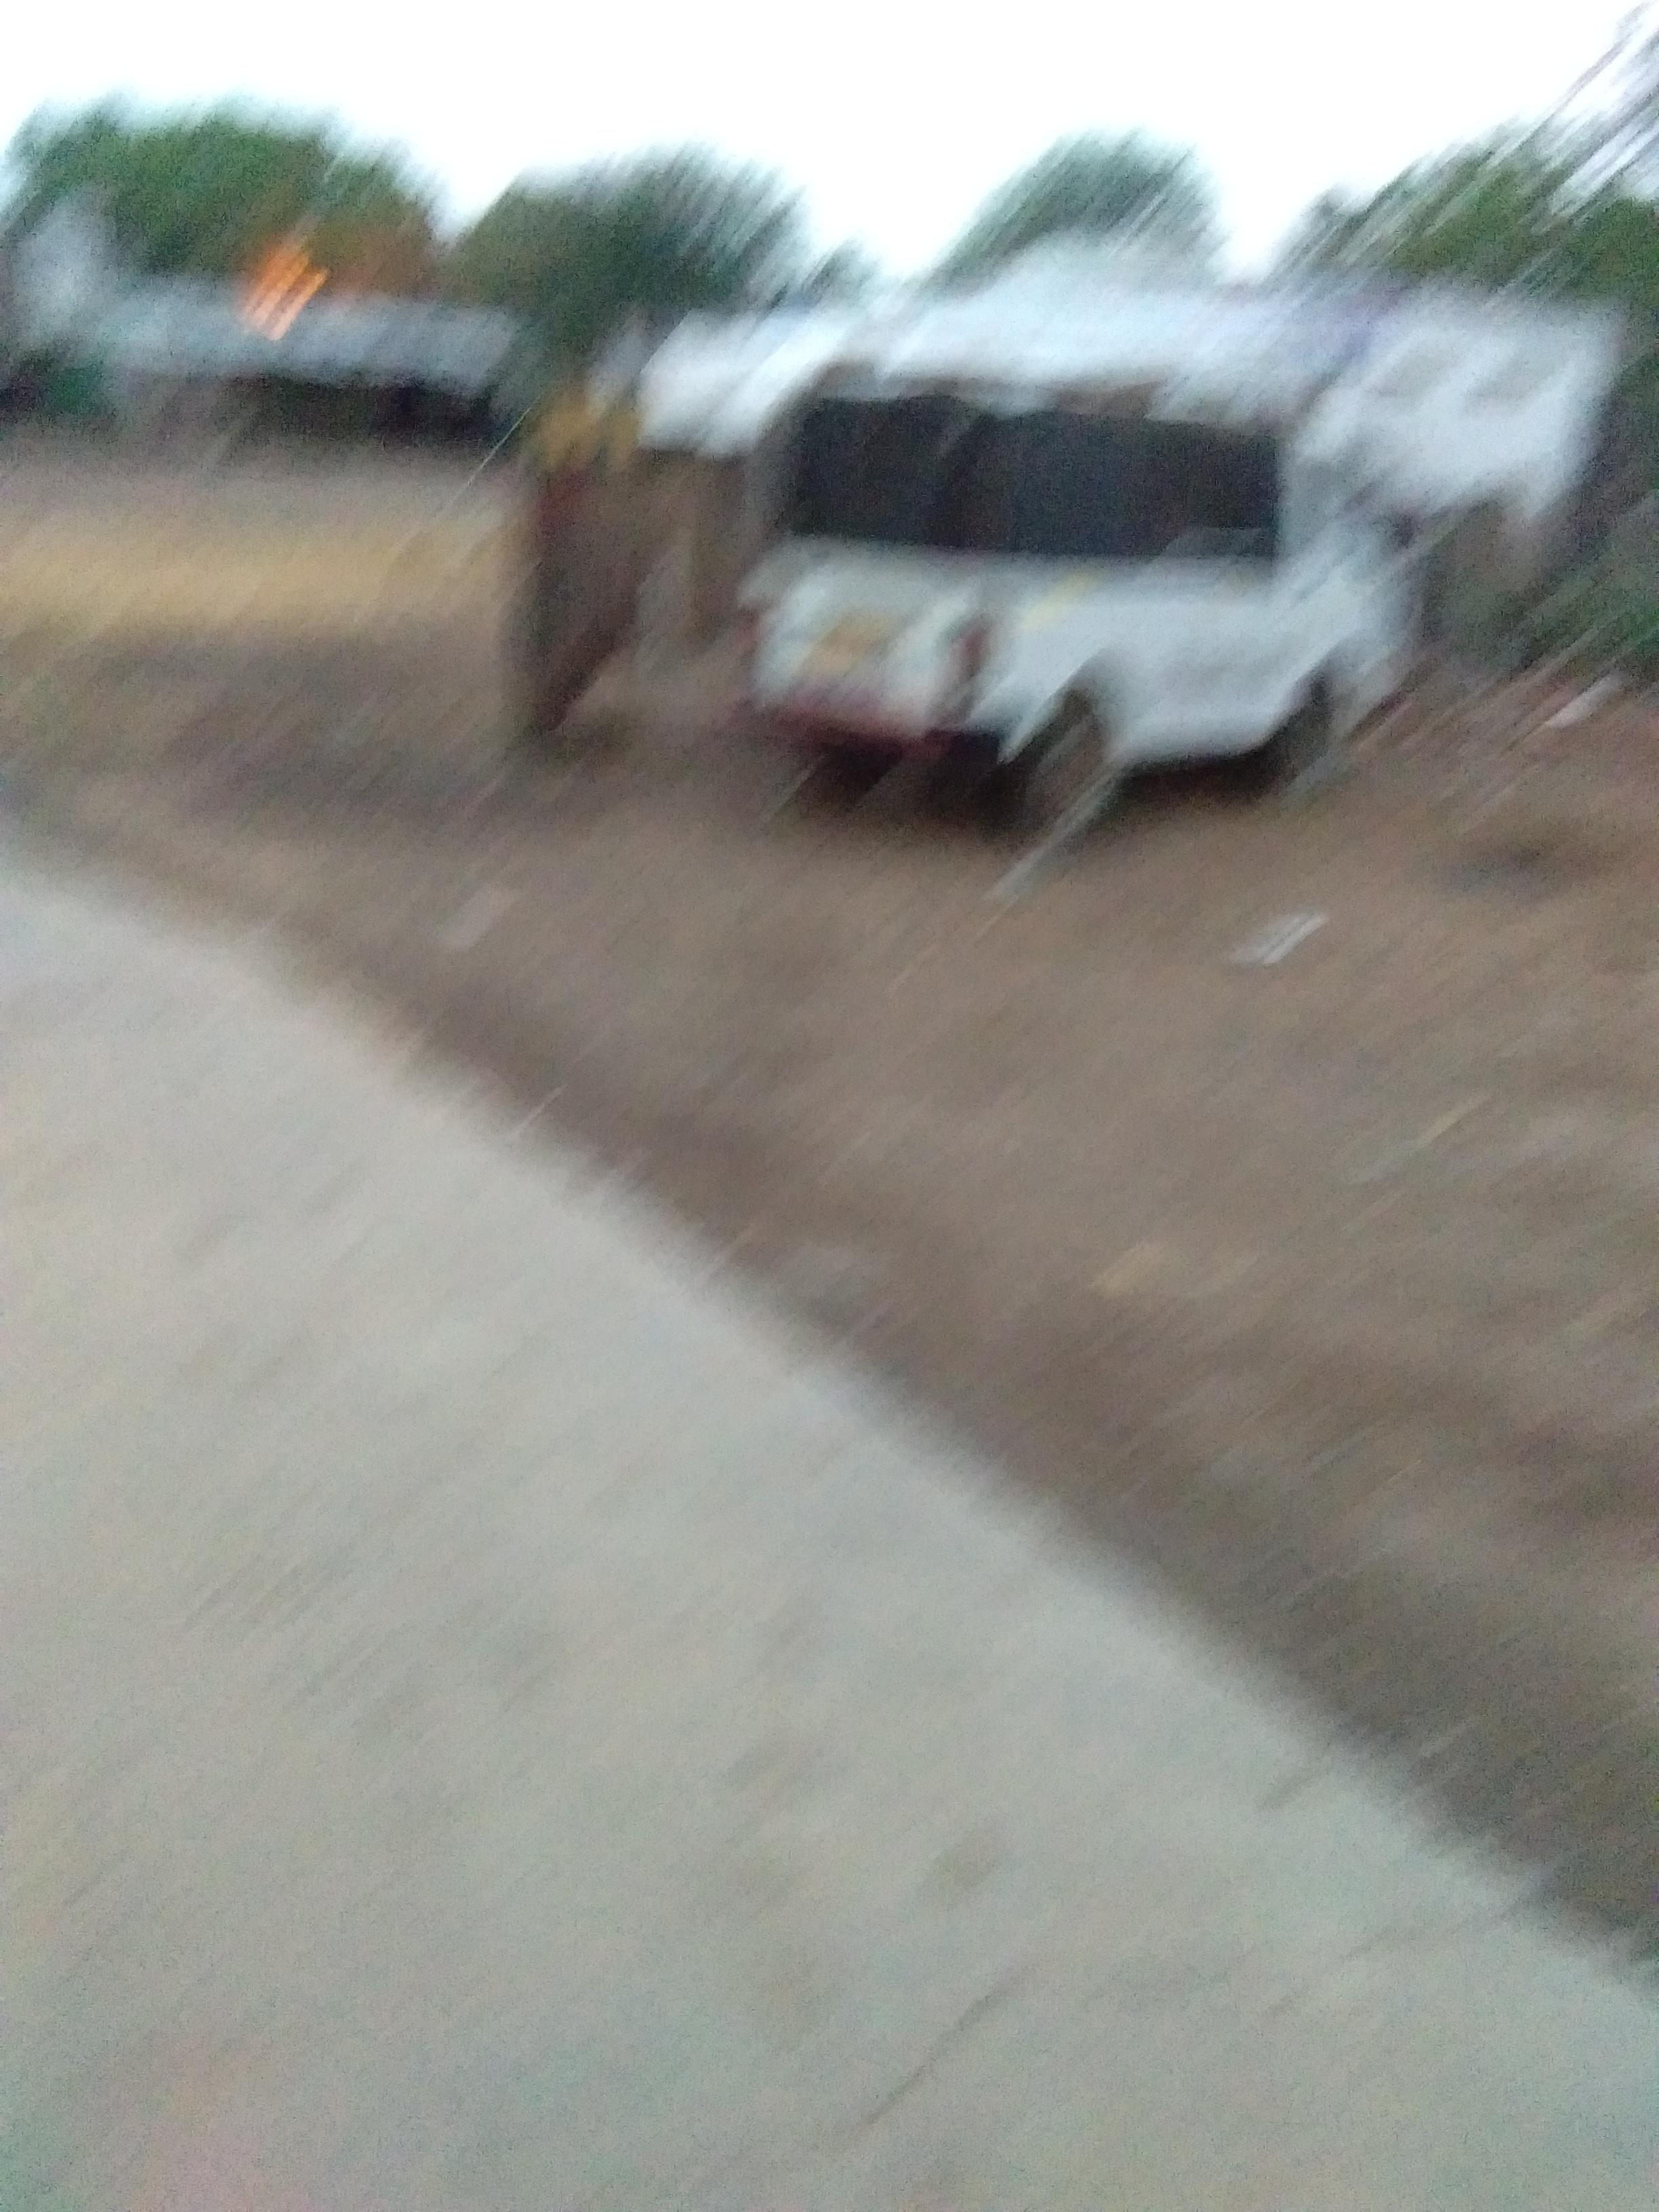Auto: (674, 279, 1410, 906)
